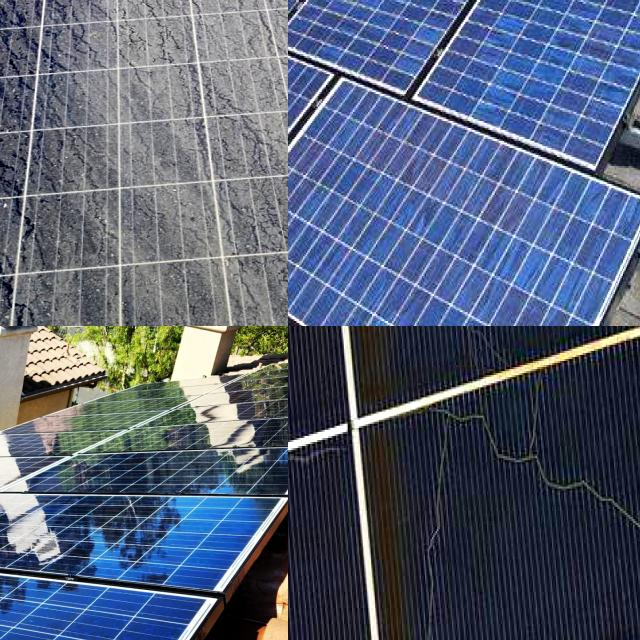crack: (288, 113, 543, 326), (457, 0, 640, 163), (0, 497, 250, 592), (32, 443, 288, 497), (288, 25, 335, 211), (82, 424, 288, 458), (0, 485, 99, 555), (376, 0, 456, 56), (0, 427, 113, 462), (0, 456, 104, 494), (288, 0, 344, 44), (0, 619, 58, 640)
dust: (15, 0, 288, 326), (0, 134, 29, 326), (152, 0, 288, 38), (0, 0, 125, 41)
shadow: (309, 326, 425, 640), (442, 326, 640, 346)
